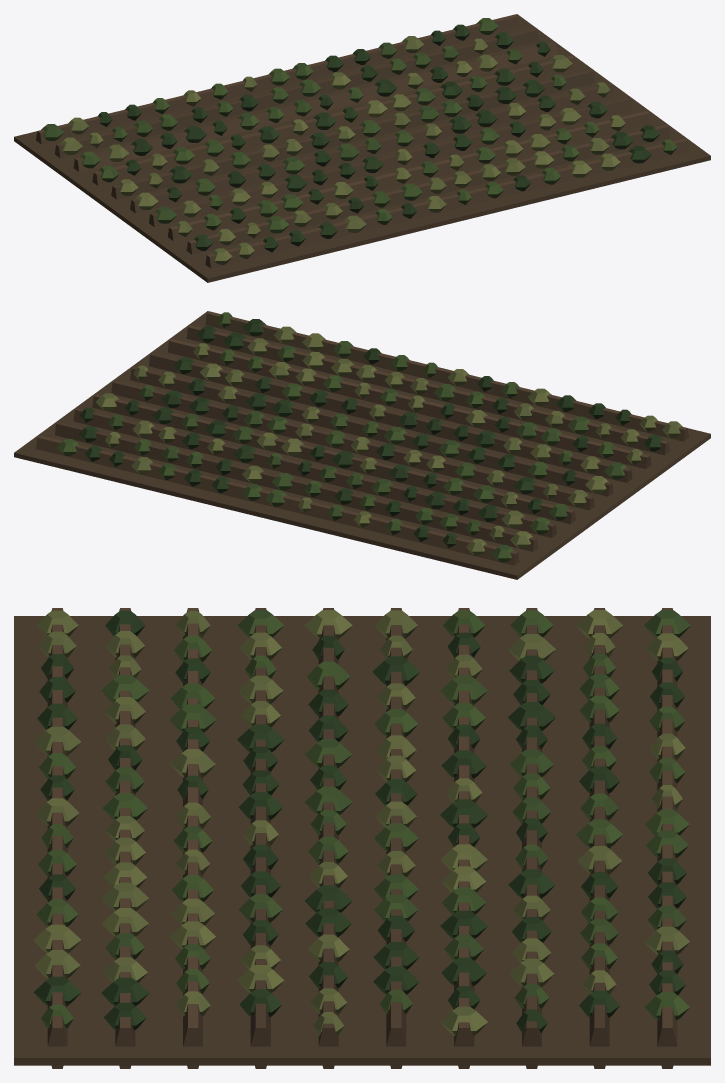
The model's file is walk_prop_field_green.glb.
3 renders of one model, top to bottom at view 1: azimuth 30°, elevation 25°; view 2: azimuth 150°, elevation 25°; view 3: azimuth 270°, elevation 25°, orthographic. The views are drawn at different scales.
Visible parts, largest first — view 1: walk_prop_field_green; view 2: walk_prop_field_green; view 3: walk_prop_field_green.
Part boxes in pixels (box(x1,y1,x2,y2)): walk_prop_field_green: box(14, 14, 710, 282); walk_prop_field_green: box(14, 311, 710, 579); walk_prop_field_green: box(14, 608, 710, 1068).
Size of the model in its own units: 12 by 0.5798 by 8.
1 material, 1 textured.
